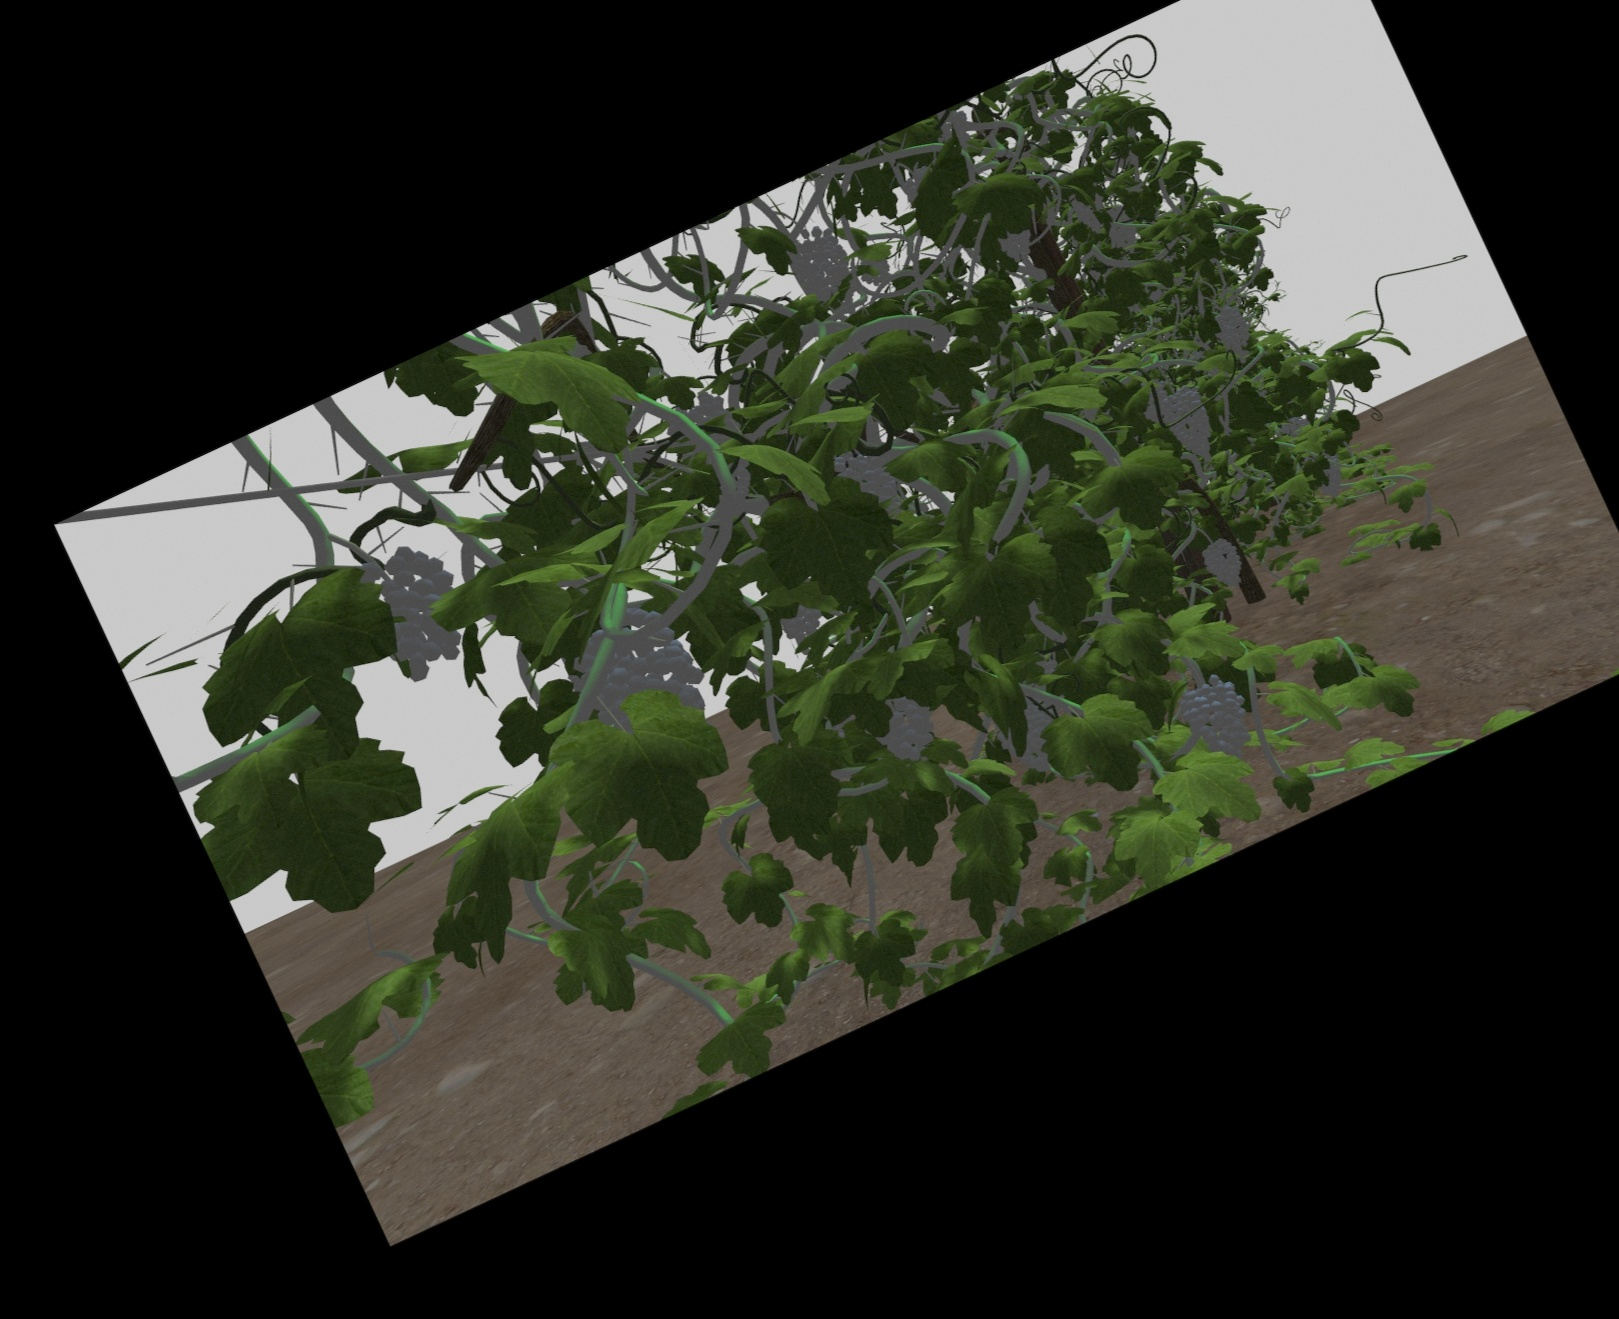grape: (580, 614, 690, 729), (377, 547, 459, 670), (1189, 680, 1249, 761), (801, 229, 854, 321), (875, 696, 937, 762), (1170, 393, 1216, 469), (1208, 539, 1242, 592), (1216, 307, 1249, 356), (1107, 206, 1136, 251), (1077, 188, 1105, 235), (1316, 454, 1345, 496)
